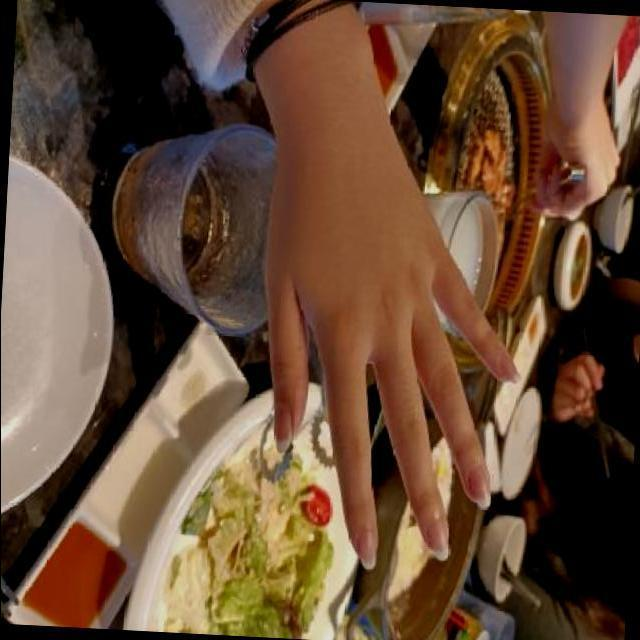hand: (240, 98, 544, 598)
